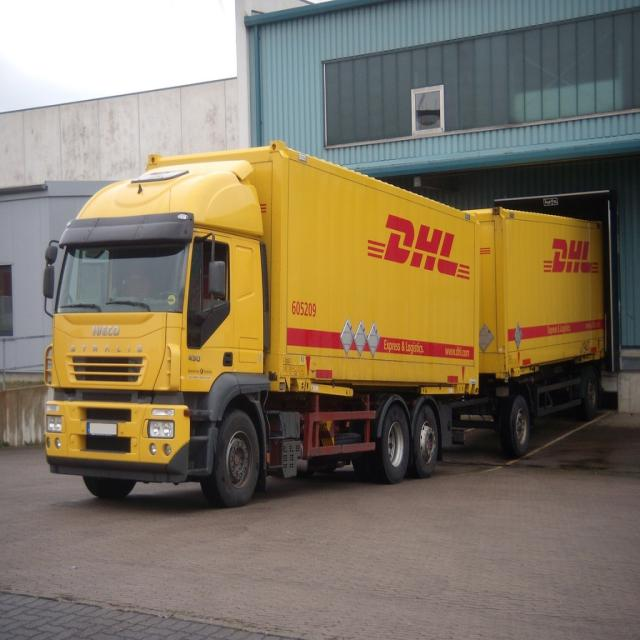dhl: (361, 210, 477, 287), (538, 230, 609, 282)
